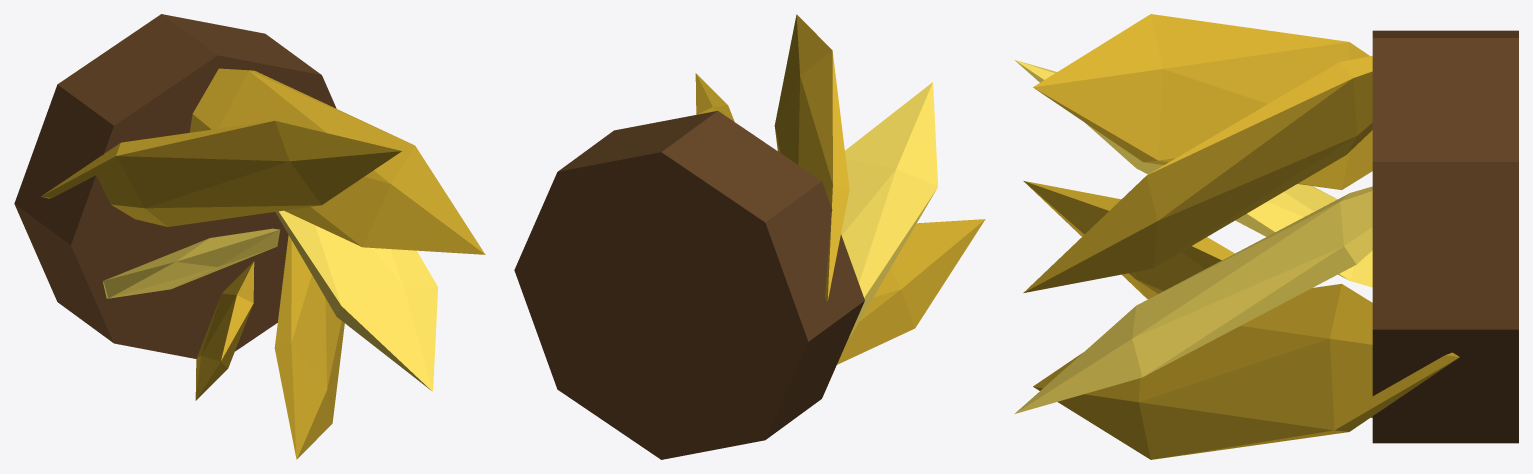
Rendered from 2_sprouting.obj.
3 renders of one model, left to right at view 1: azimuth 30°, elevation 25°; view 2: azimuth 150°, elevation 25°; view 3: azimuth 270°, elevation 25°, orthographic. The views are drawn at different scales.
Parts seen in each view (by area): view 1: torstol_2_sprouting; view 2: torstol_2_sprouting; view 3: torstol_2_sprouting.
Part boxes in pixels (x1=…): torstol_2_sprouting: x1=14, y1=14, x2=485, y2=459; torstol_2_sprouting: x1=514, y1=14, x2=985, y2=459; torstol_2_sprouting: x1=1015, y1=14, x2=1518, y2=459.
Size of the model in its own units: 0.12 by 0.1235 by 0.138.
